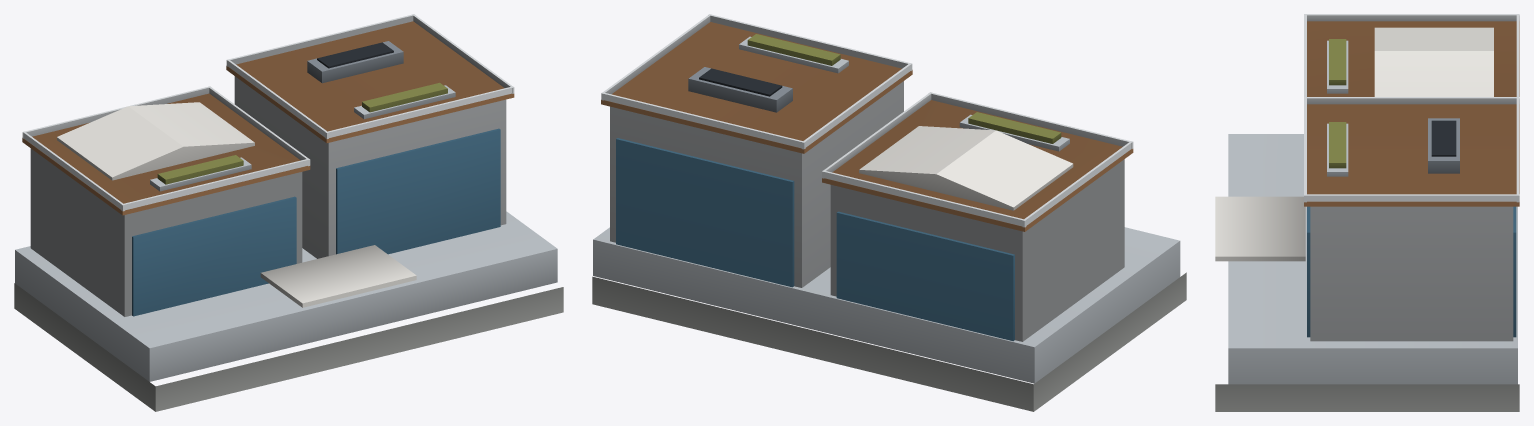
File: research-block.glb
3 views of the same model, side by side, from view 1: azimuth 30°, elevation 25°; view 2: azimuth 150°, elevation 25°; view 3: azimuth 270°, elevation 25° (orthographic). The views are drawn at different scales.
Parts seen in each view (by area): view 1: research-block; view 2: research-block; view 3: research-block.
Boxes of the visible parts, left/top/right/bottom form: research-block: left=14, top=14, right=563, bottom=411; research-block: left=592, top=14, right=1186, bottom=411; research-block: left=1215, top=14, right=1519, bottom=411.
Size of the model in its own units: 50 by 24 by 30.
